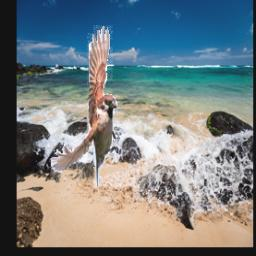Sparrow: (50, 26, 119, 188)
